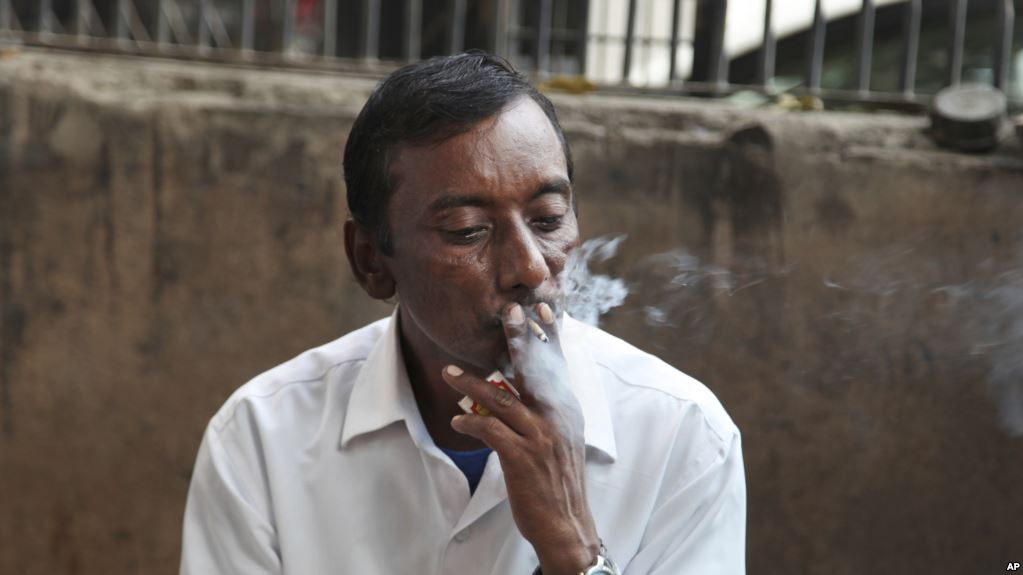cigarette: (516, 298, 557, 352)
